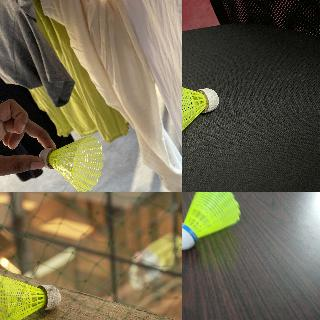shuttlecock: (38, 136, 103, 191), (182, 192, 240, 251), (0, 271, 61, 319), (182, 77, 220, 145)
